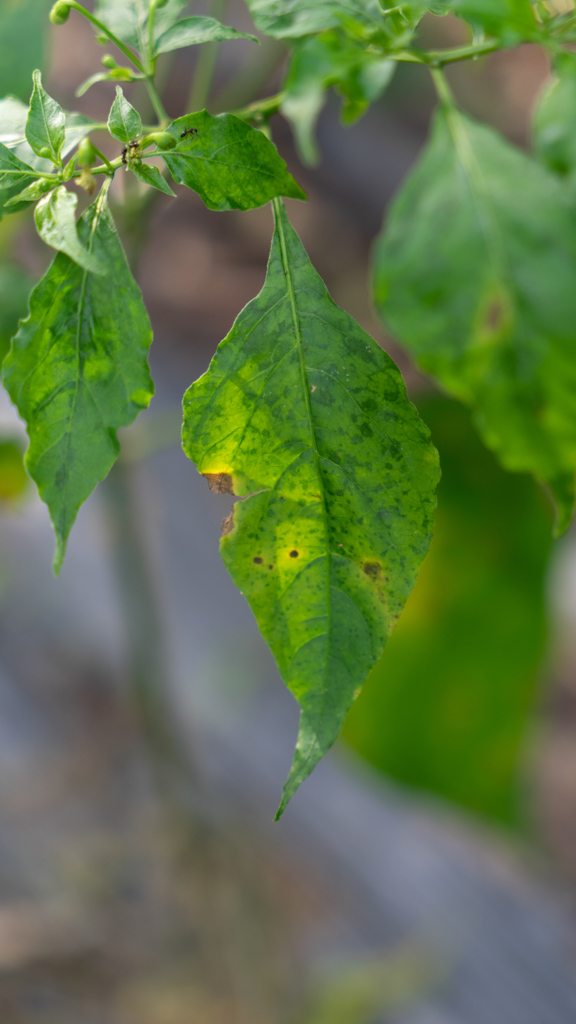frog-eye leafspot: (467, 280, 523, 346), (249, 540, 316, 574), (347, 551, 397, 596)
